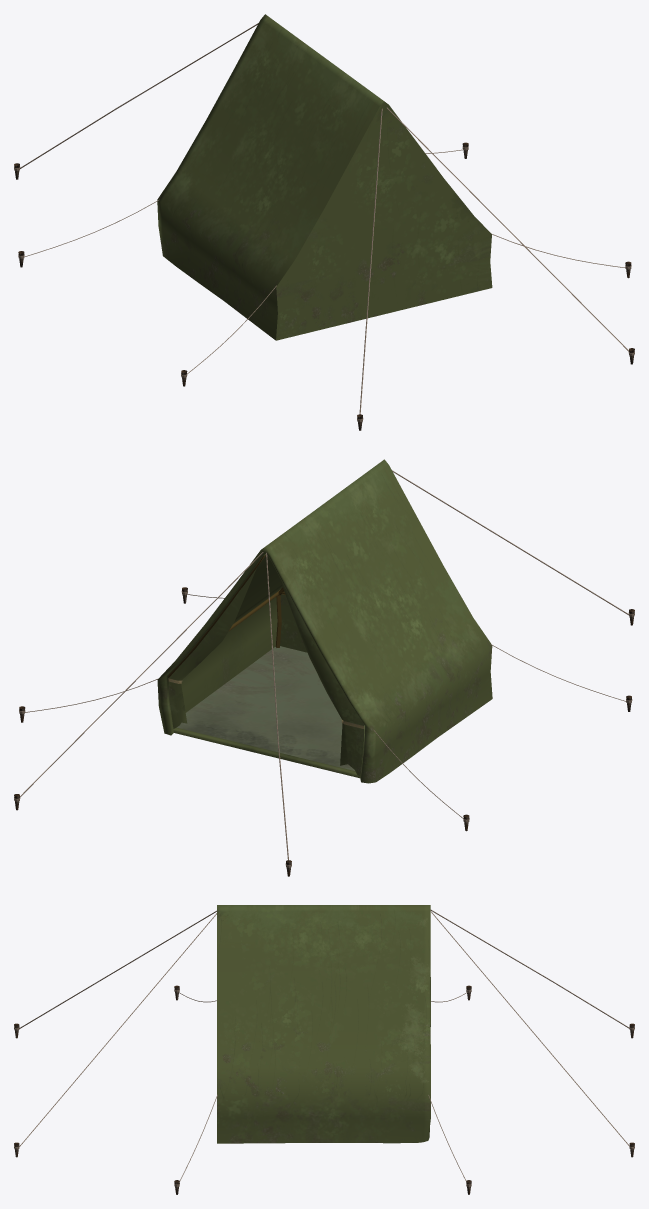
Rendered from tent5.gltf.
3 renders of one model, top to bottom at view 1: azimuth 30°, elevation 25°; view 2: azimuth 150°, elevation 25°; view 3: azimuth 270°, elevation 25°, orthographic. The views are drawn at different scales.
Parts seen in each view (by area): view 1: Tent_low, Line003, Pick_low; view 2: Tent_low, Floor_low, Curtains, Line003, Pick_low; view 3: Tent_low, Line003, Pick_low.
Boxes of the visible parts, box(x1,y1,x2,y2) form: Tent_low: box(157, 14, 492, 340); Line003: box(20, 23, 628, 414); Pick_low: box(14, 142, 634, 430); Tent_low: box(157, 459, 492, 783); Floor_low: box(173, 646, 360, 778); Curtains: box(168, 568, 364, 776); Line003: box(20, 470, 629, 860); Pick_low: box(14, 587, 634, 876); Tent_low: box(217, 905, 430, 1143); Line003: box(19, 909, 629, 1146); Pick_low: box(14, 985, 634, 1194).
Bounding box in the file's own units: 1.5 × 0.6833 × 2.
1 material, 1 textured.
